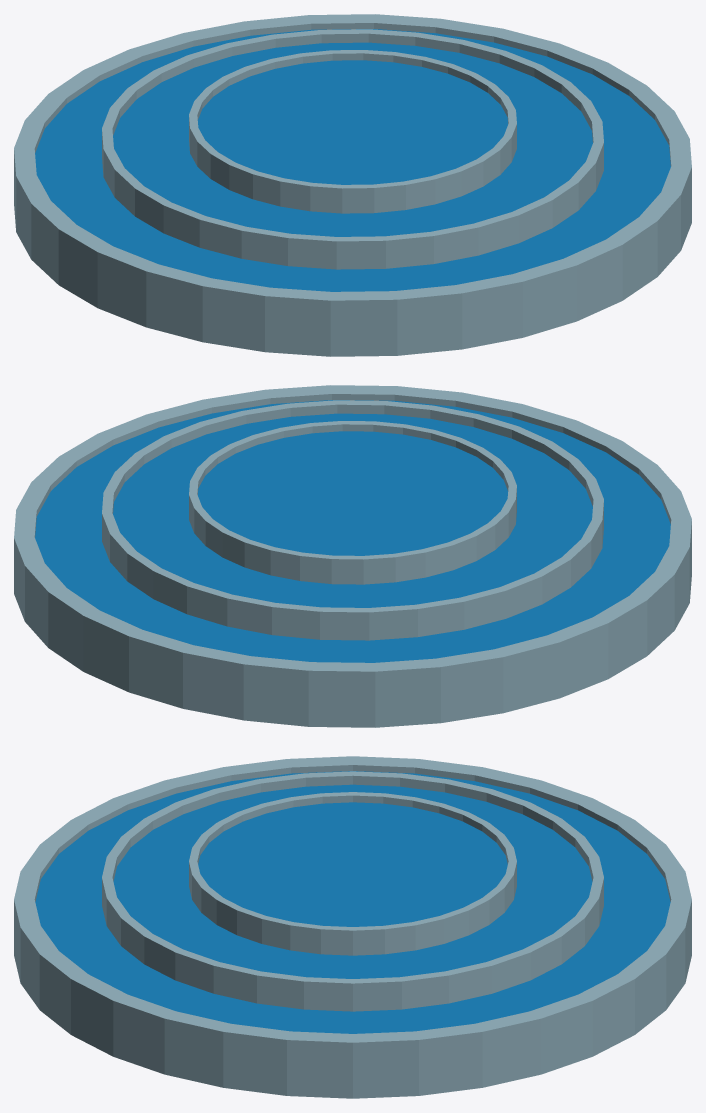
The model's file is pond.fbx.
3 views of the same model, one above another, from view 1: azimuth 30°, elevation 25°; view 2: azimuth 150°, elevation 25°; view 3: azimuth 270°, elevation 25° (orthographic).
Visible parts, largest first — view 1: Cylinder; view 2: Cylinder; view 3: Cylinder.
Boxes of the visible parts, left/top/right/bottom form: Cylinder: left=14, top=14, right=691, bottom=356; Cylinder: left=14, top=385, right=691, bottom=727; Cylinder: left=14, top=756, right=691, bottom=1098.
Bounding box in the file's own units: 1137 × 174 × 1137.
